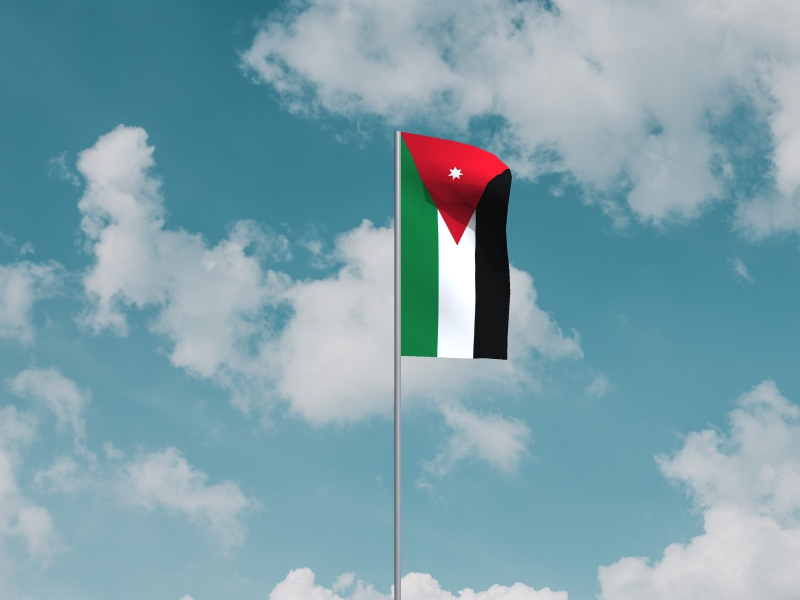jo: (402, 132, 514, 362)
